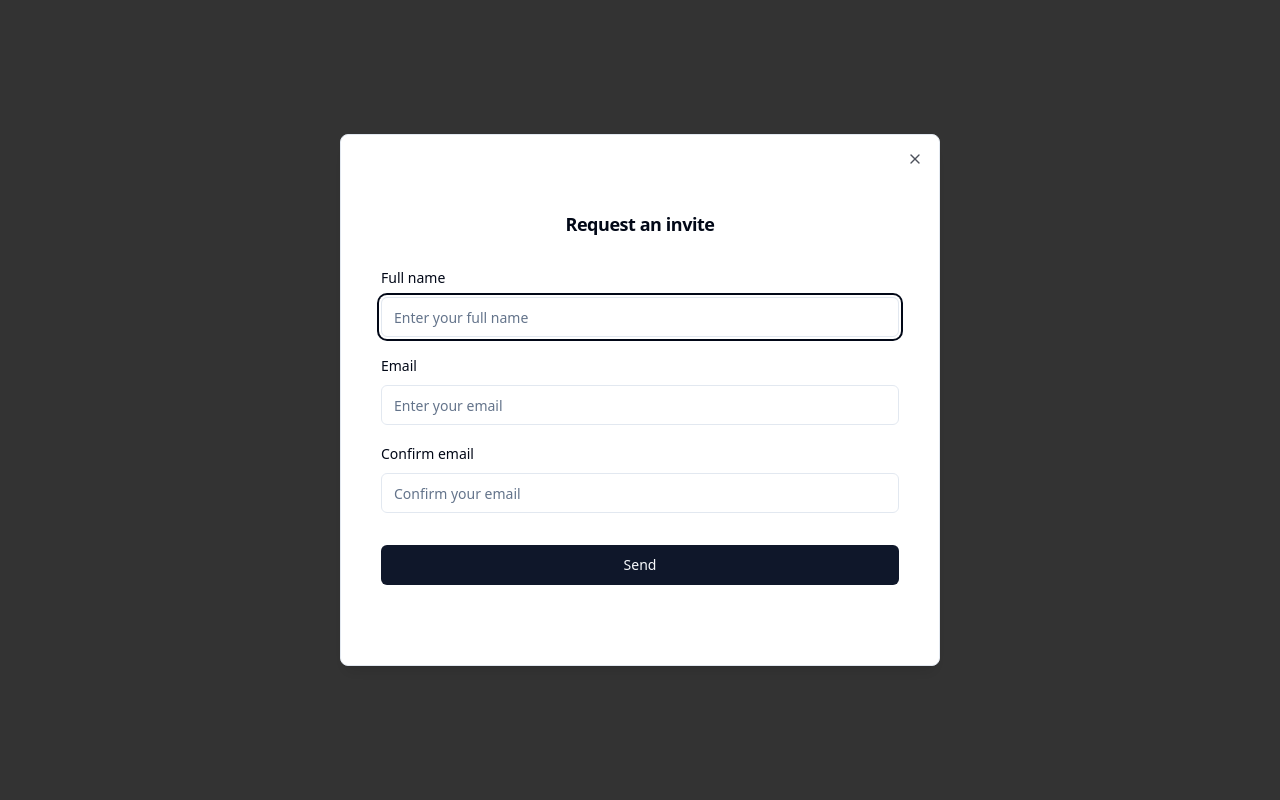
Test: DialogModal › should show error if confirm email is not the same email
Type "acasda" into the field named "fullName-input" at (640, 317), box x1=381 y1=297 x2=899 y2=337
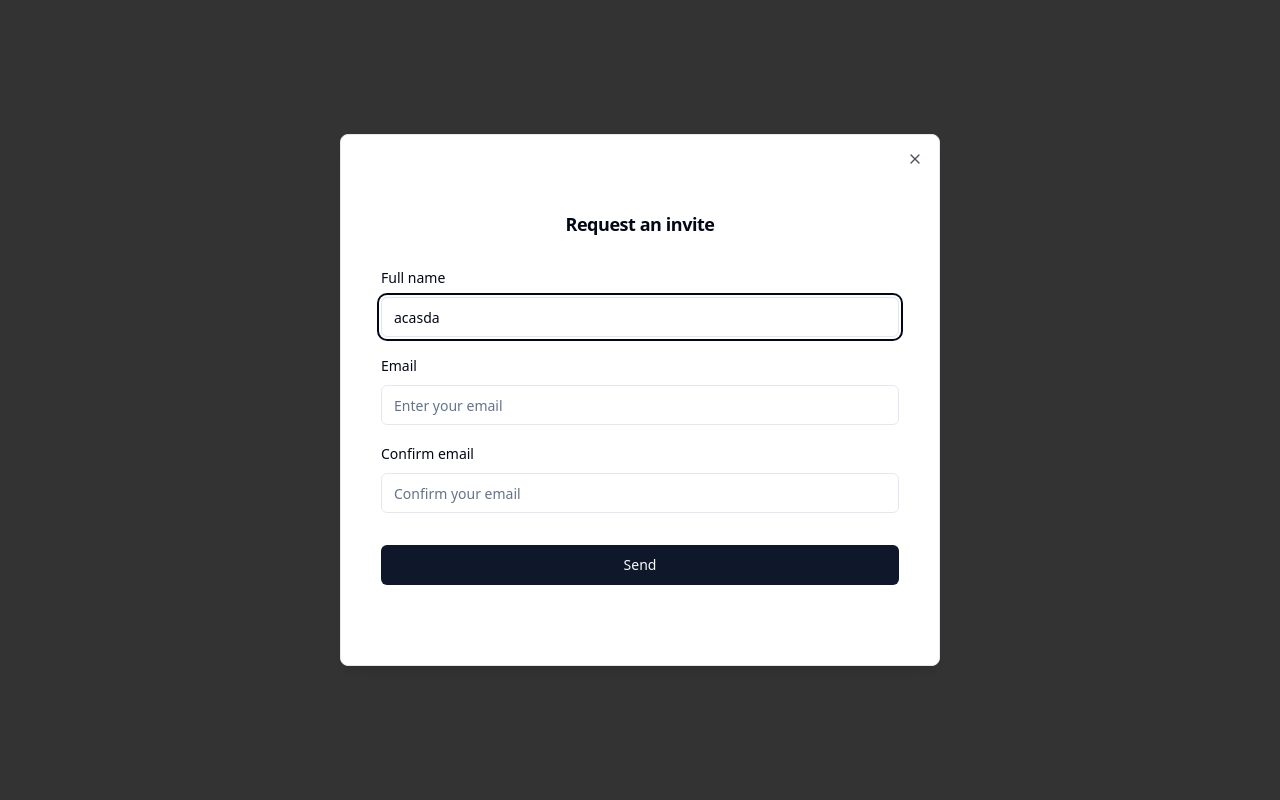
Type "acasdasd@test.com" into the field named "email-input" at (640, 405), box x1=381 y1=385 x2=899 y2=425
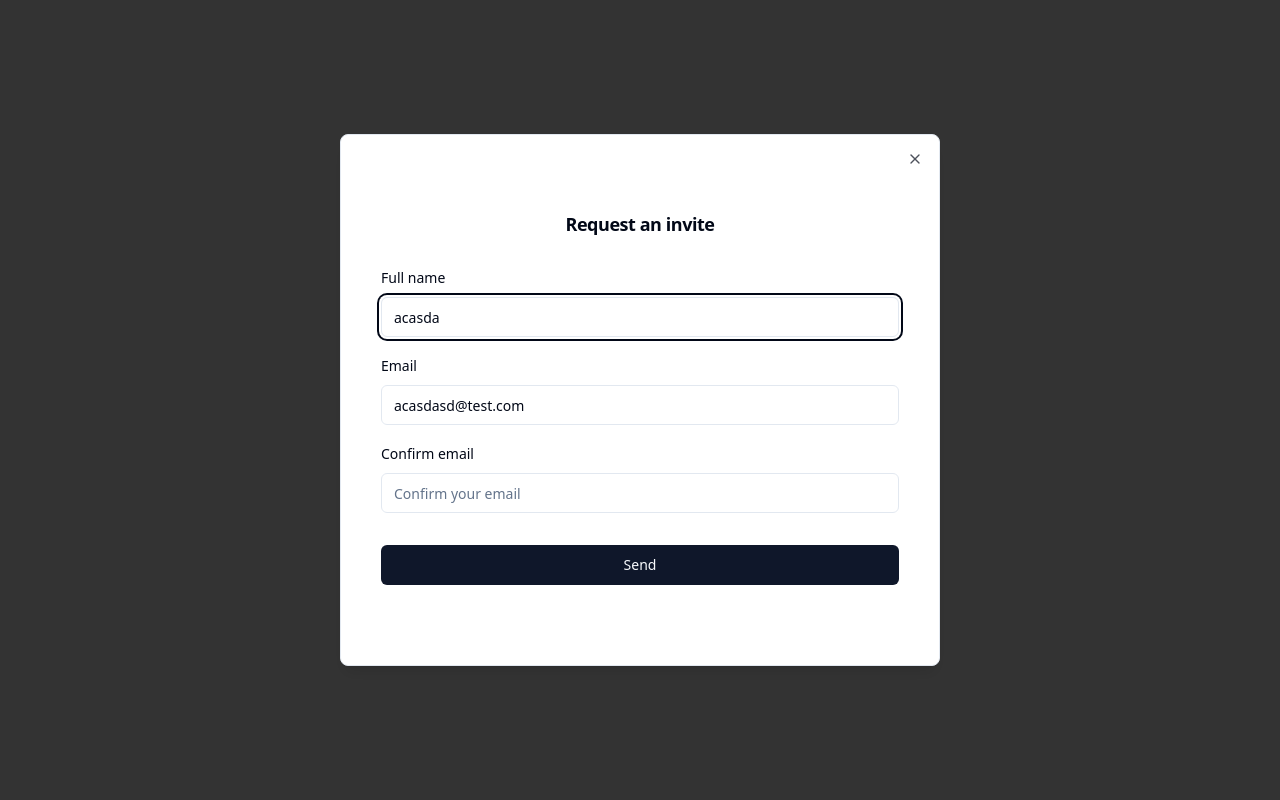
Type "acasdasd@test1.com" into the field named "confirmEmail-input" at (640, 493), box x1=381 y1=473 x2=899 y2=513
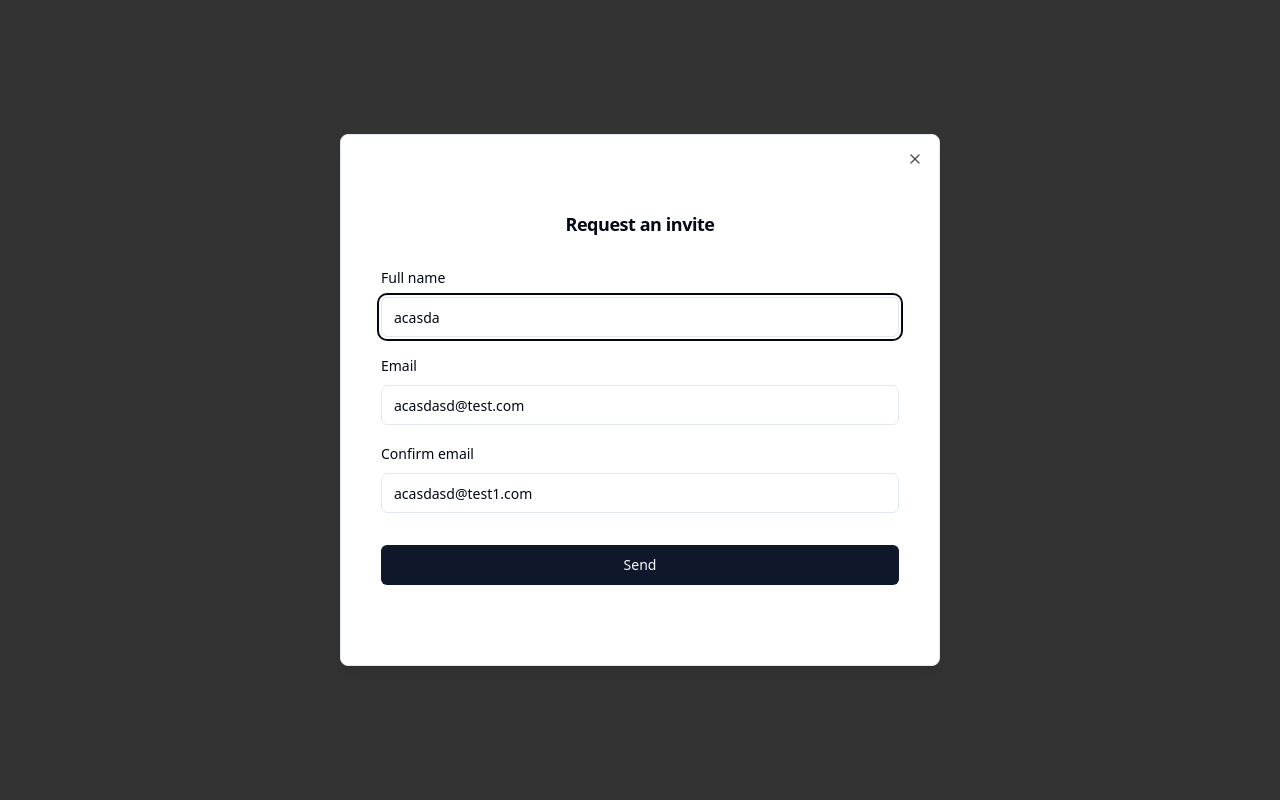
Click the button "Send" at (640, 565), box x1=381 y1=545 x2=899 y2=585
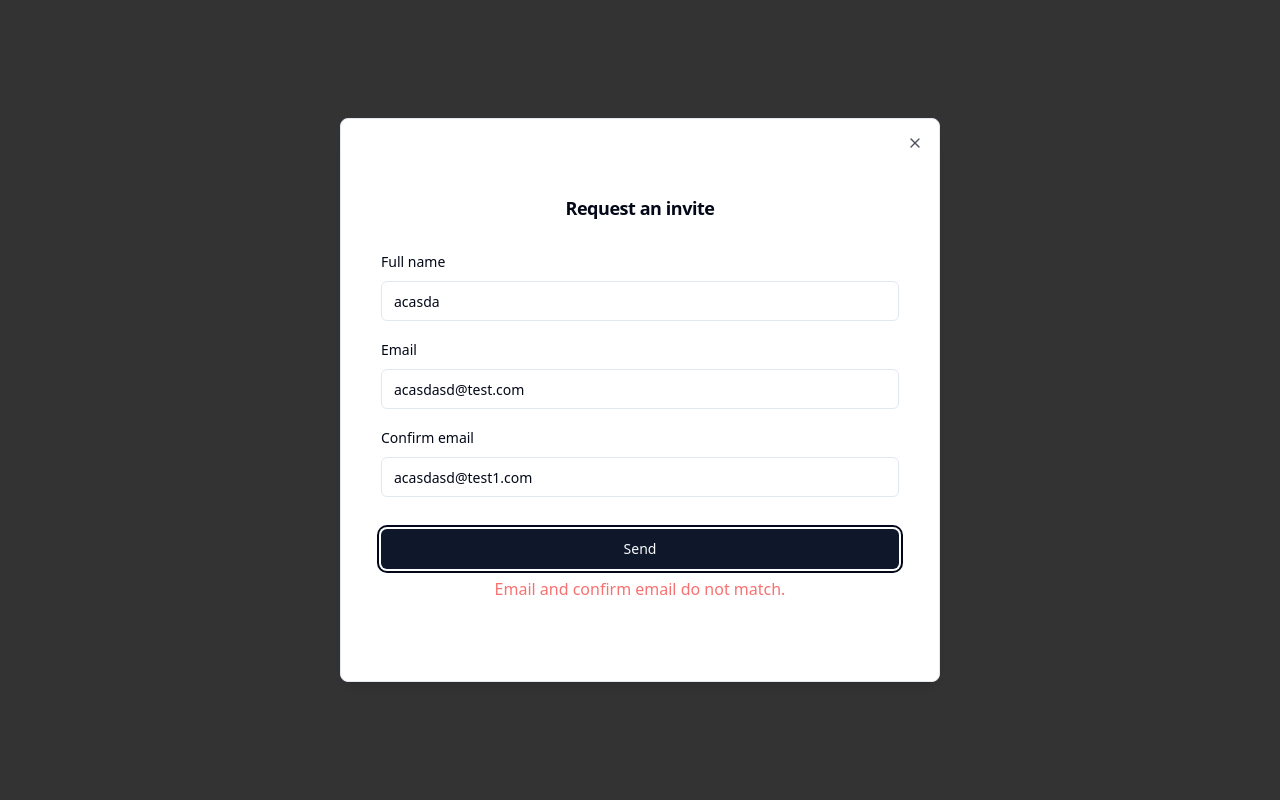
Result: the text "Email and confirm email do not match." is shown at x1=495 y1=578 x2=786 y2=600
